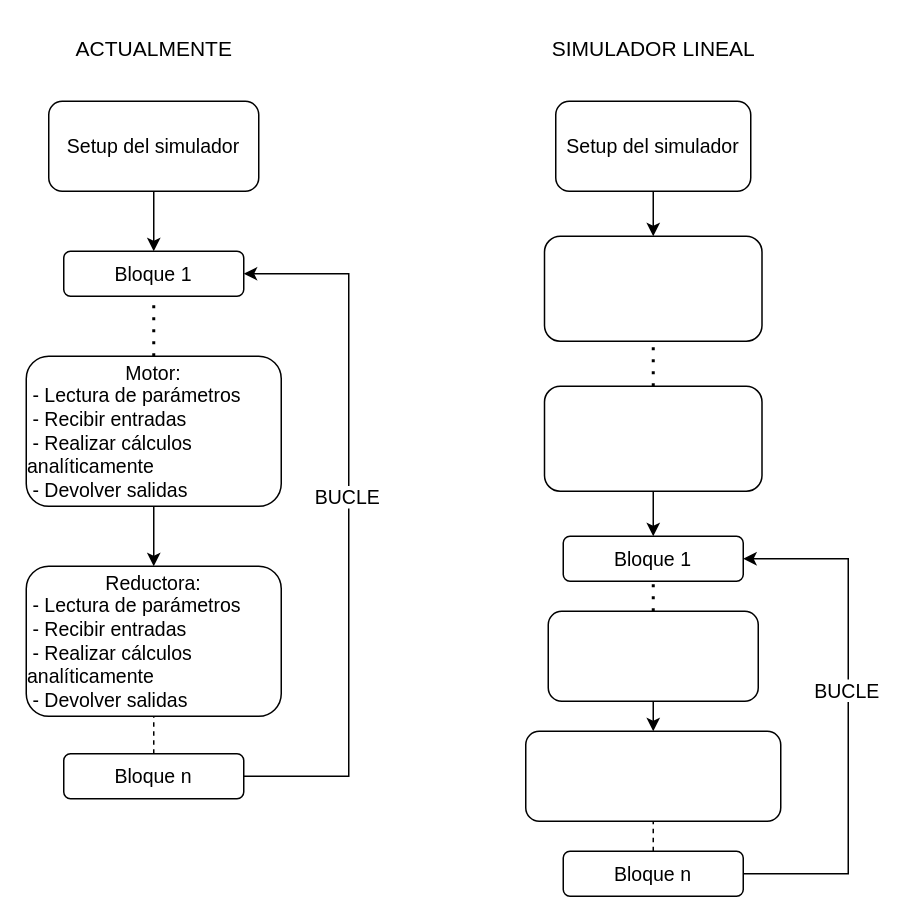
Image size: 905x923. Some labels were removed from this diagram. The centre of each missing label's shape, as x and y in pixels:
"Creación bloque 1: - Lectura de parámetros -Definición FT o SS" goes at (652,288).
"Creación bloque n: - Lectura de parámetros -Definición FT o SS" goes at (652,438).
"Motor: - Recibir entradas - Devolver salidas" goes at (652,655).
"Reductora: - Recibir entradas - Devolver salidas" goes at (652,775).
